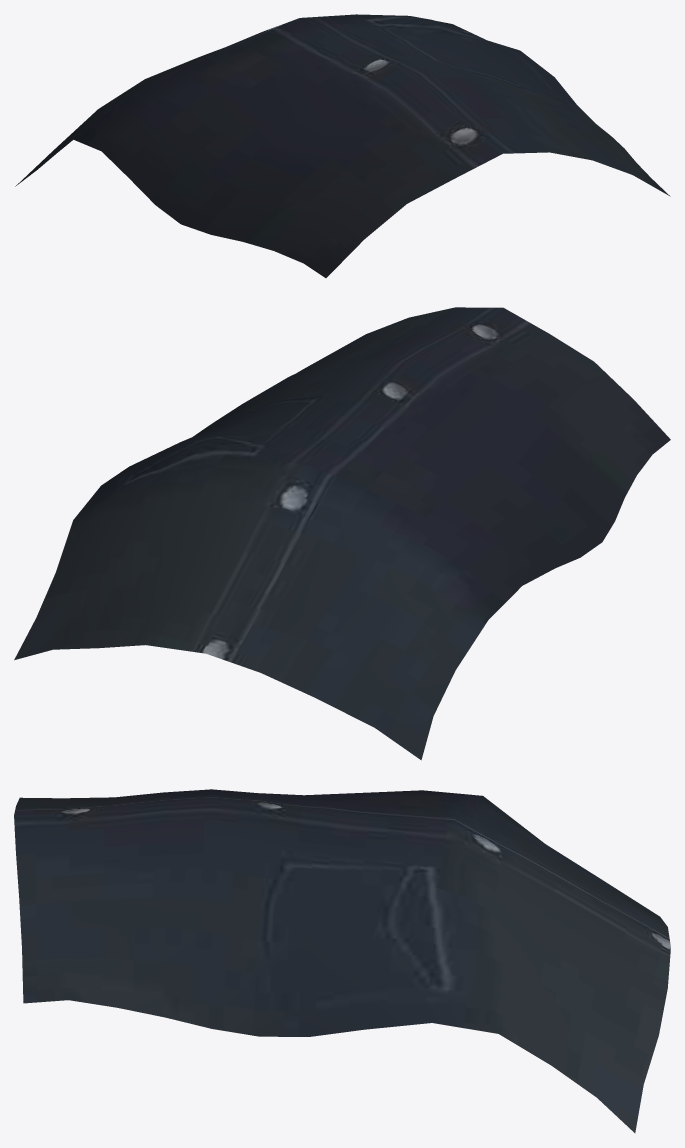
File: Dada-Tipis.fbx
The picture shows the model from 3 angles, top to bottom: view 1: azimuth 30°, elevation 25°; view 2: azimuth 150°, elevation 25°; view 3: azimuth 270°, elevation 25°; orthographic projection. The views are drawn at different scales.
Visible parts, largest first — view 1: Wolf3D_Outfit_Top.002; view 2: Wolf3D_Outfit_Top.002; view 3: Wolf3D_Outfit_Top.002.
Boxes of the visible parts, x1,y1,x2,y2 form: Wolf3D_Outfit_Top.002: (15, 14, 670, 277); Wolf3D_Outfit_Top.002: (14, 307, 670, 760); Wolf3D_Outfit_Top.002: (14, 789, 670, 1133).
Bounding box in the file's own units: 25.88 × 11.98 × 31.73.
1 material, 1 textured.
